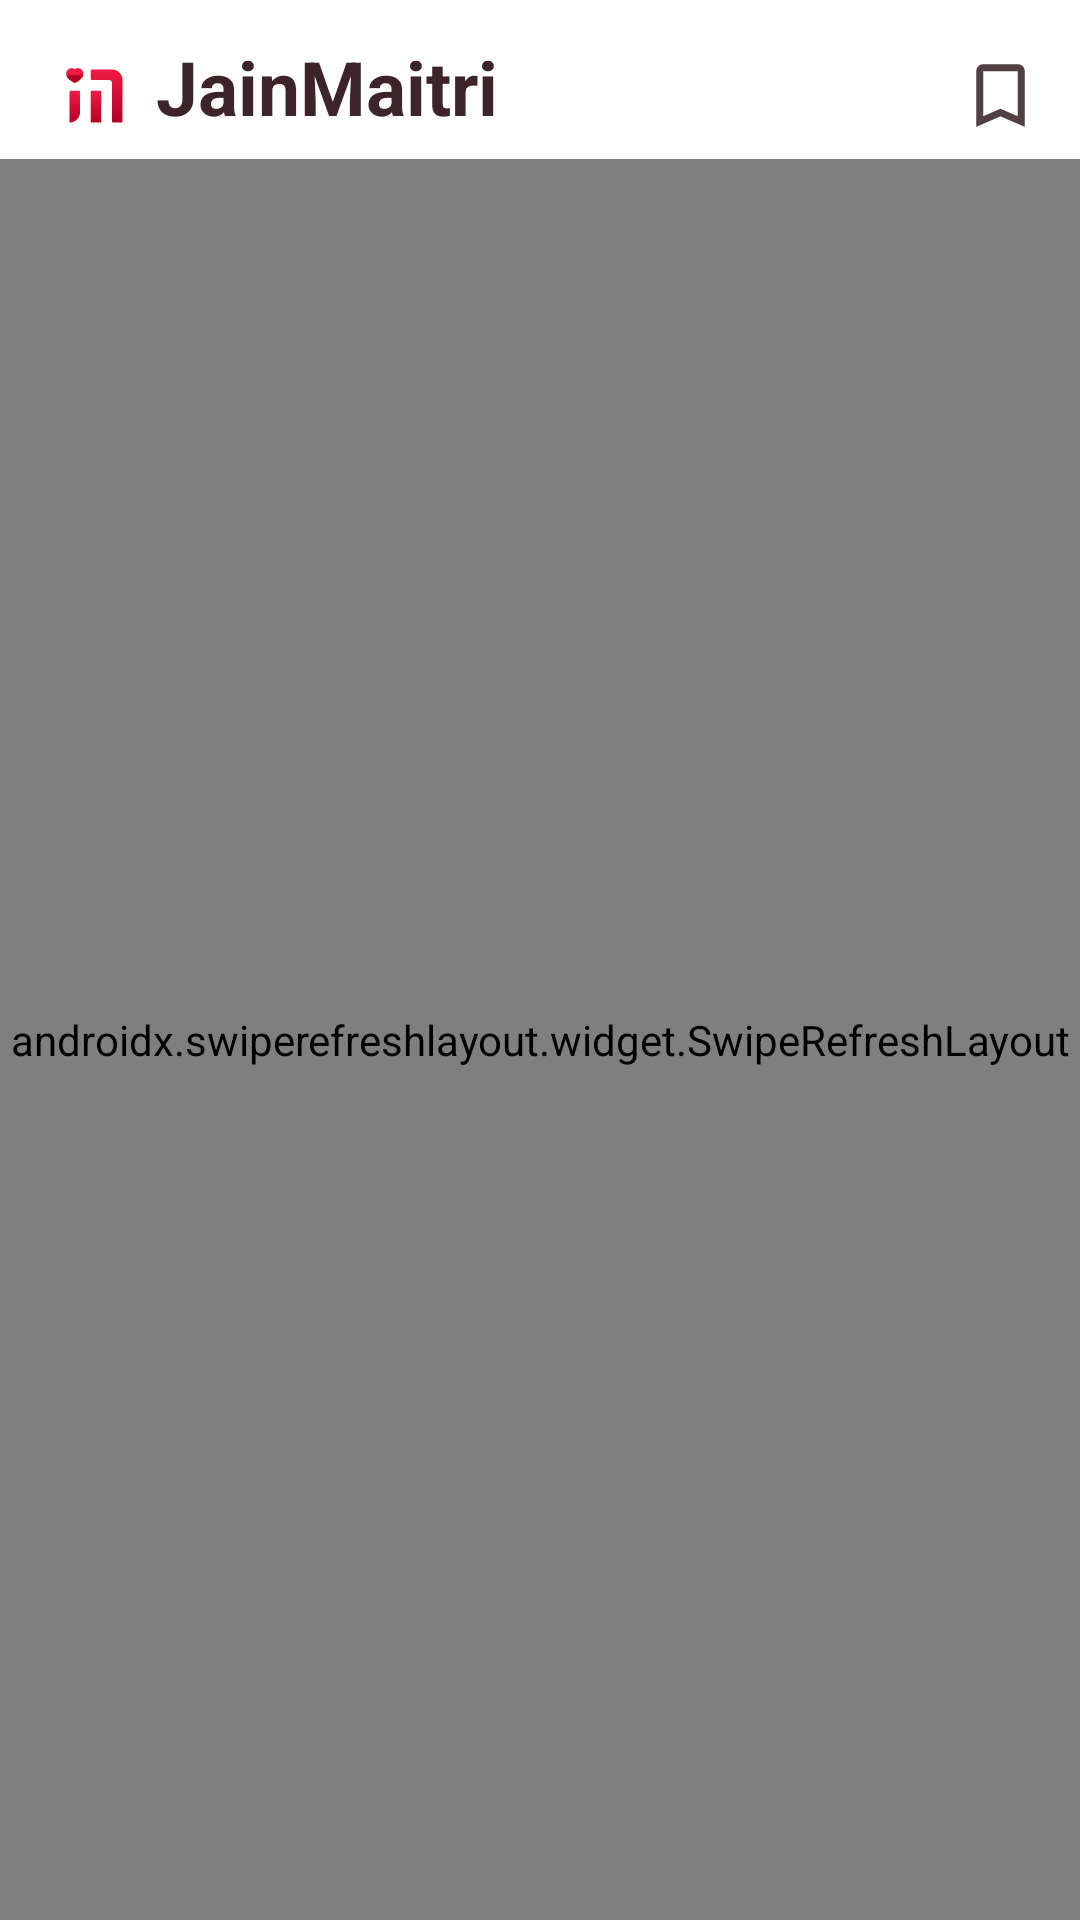

Icon bounding boxes for this 1080px x 1920px phone screenshot, format (x1, y1, x2, y2):
save: (976, 64, 1025, 127)
